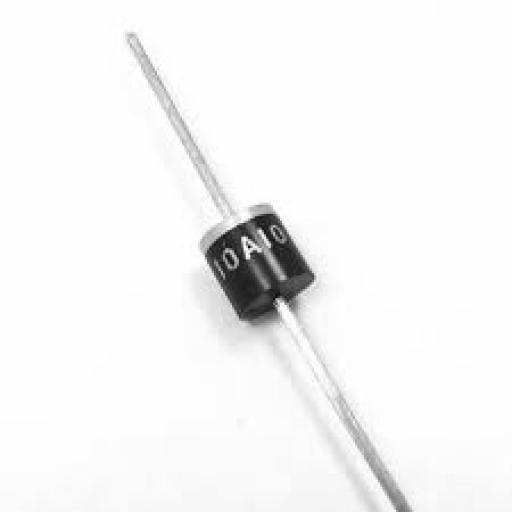DIODE: (174, 146, 355, 359)
